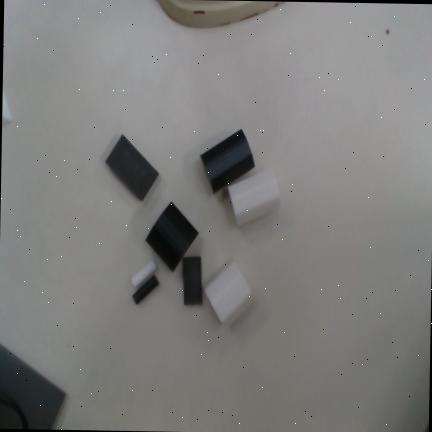Cilindro: (132, 274, 159, 304), (130, 258, 156, 288)
Paralelepipedo: (104, 133, 159, 201), (182, 255, 202, 305)
Piramide: (2, 91, 12, 127)
Prisma_hexagonal: (144, 201, 199, 272), (199, 128, 255, 194), (202, 257, 255, 326), (227, 168, 280, 227)
